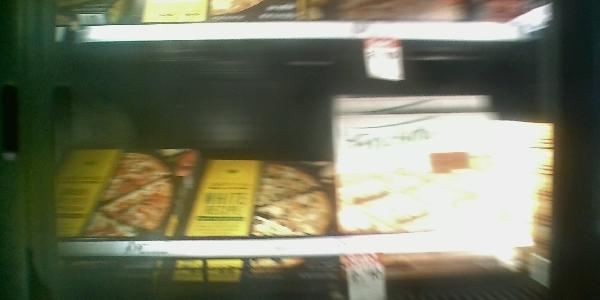pizza: (335, 114, 530, 274), (173, 152, 342, 293), (47, 144, 197, 289)
pizza1: (331, 94, 488, 120)
